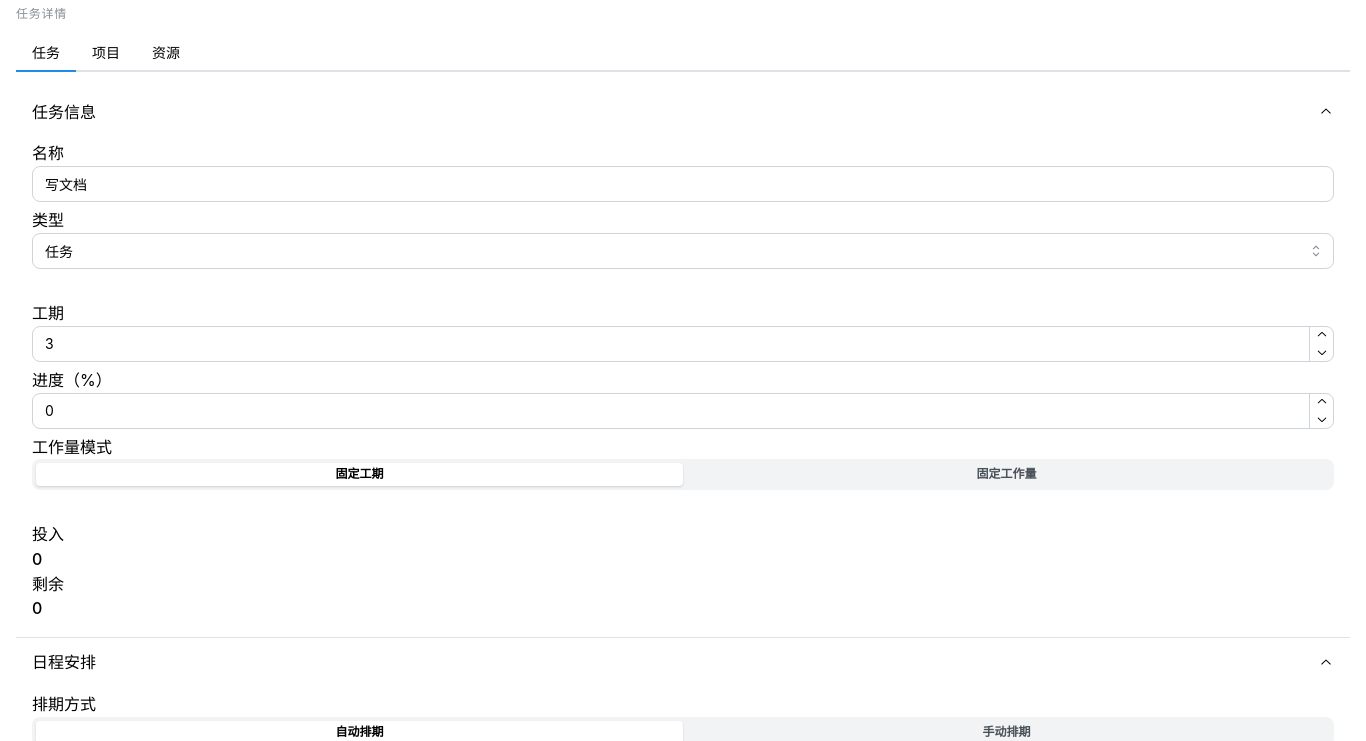
Test: 日程安排组（mode 切换 + 双约束编辑） › 切到「手动排期」出现 start/end 两个可编辑日期，工期输入禁用并注明不消费工期
The image size is (1366, 741).
Expected: the field labelled "工期" is enabled, [32,326,1334,362]
Click the text with test id "scheduling-mode-manual" at point(1006, 731), box [982,724,1030,739]
(page scrolled)
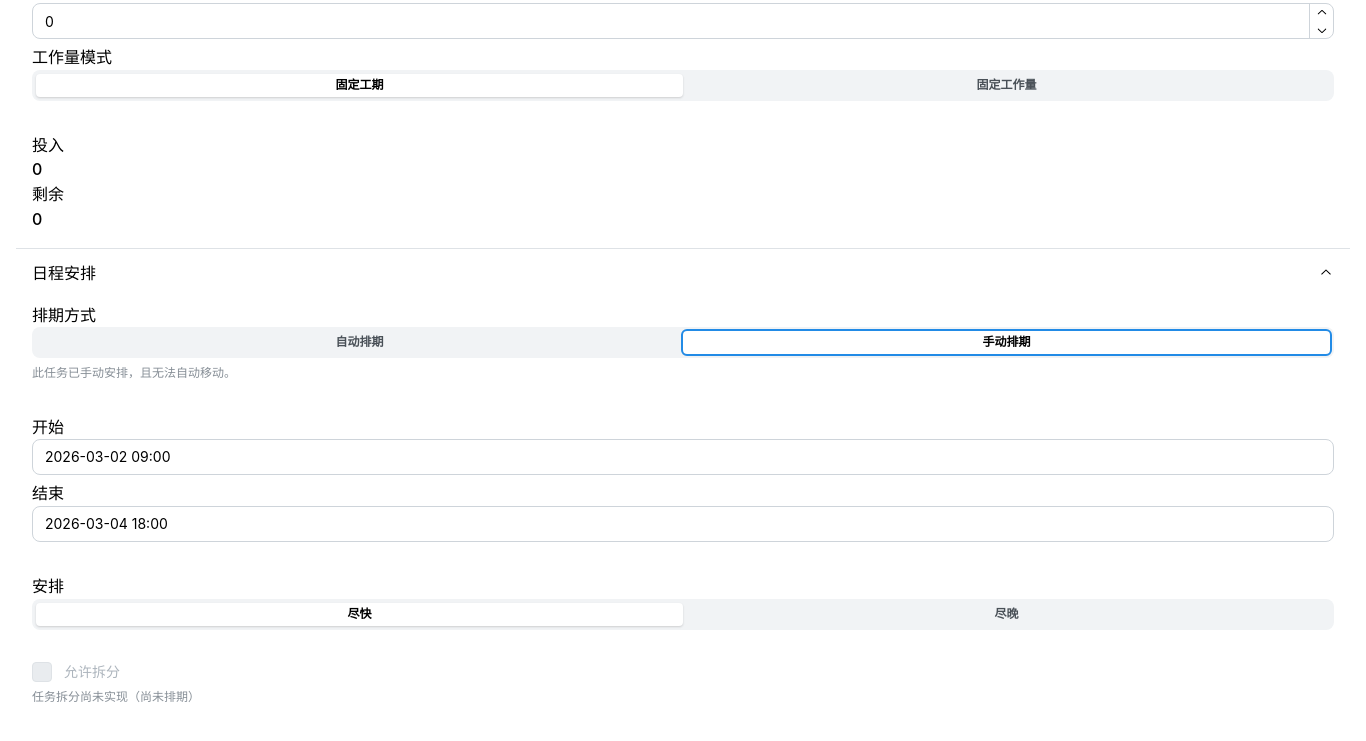
Result: the element with test id "scheduling-manual" is shown at [32,414,1334,542]
Result: the button named "开始" is enabled at [32,439,1334,475]
Result: the button named "结束" is enabled at [32,506,1334,542]
